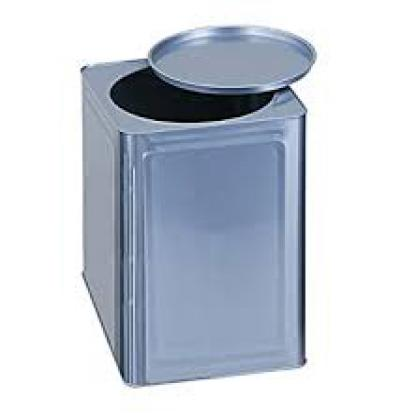Compsot: (81, 53, 306, 385), (146, 26, 315, 92)
